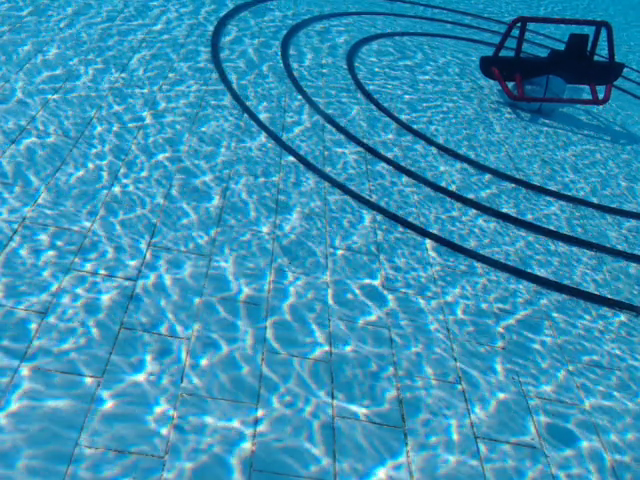submarine: (478, 14, 629, 107)
